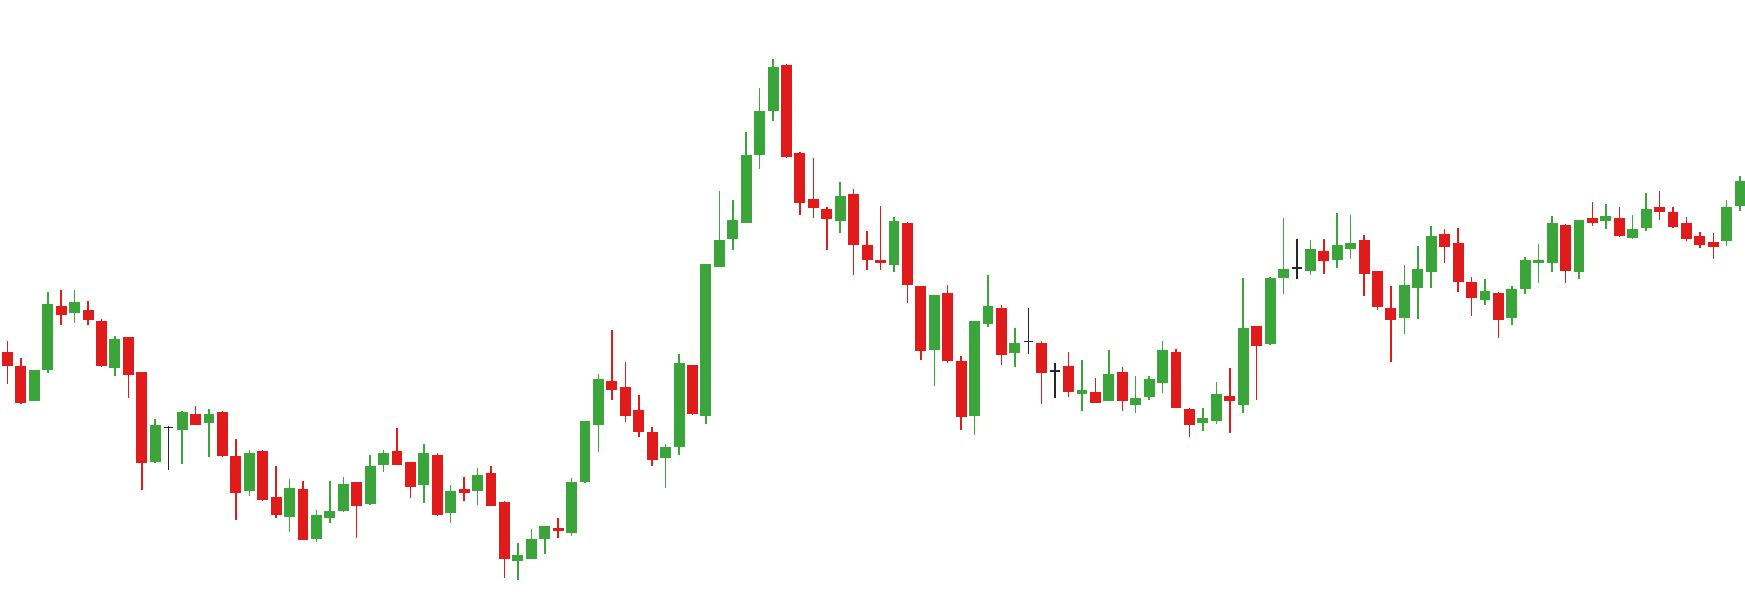buy: (296, 475, 539, 579)
